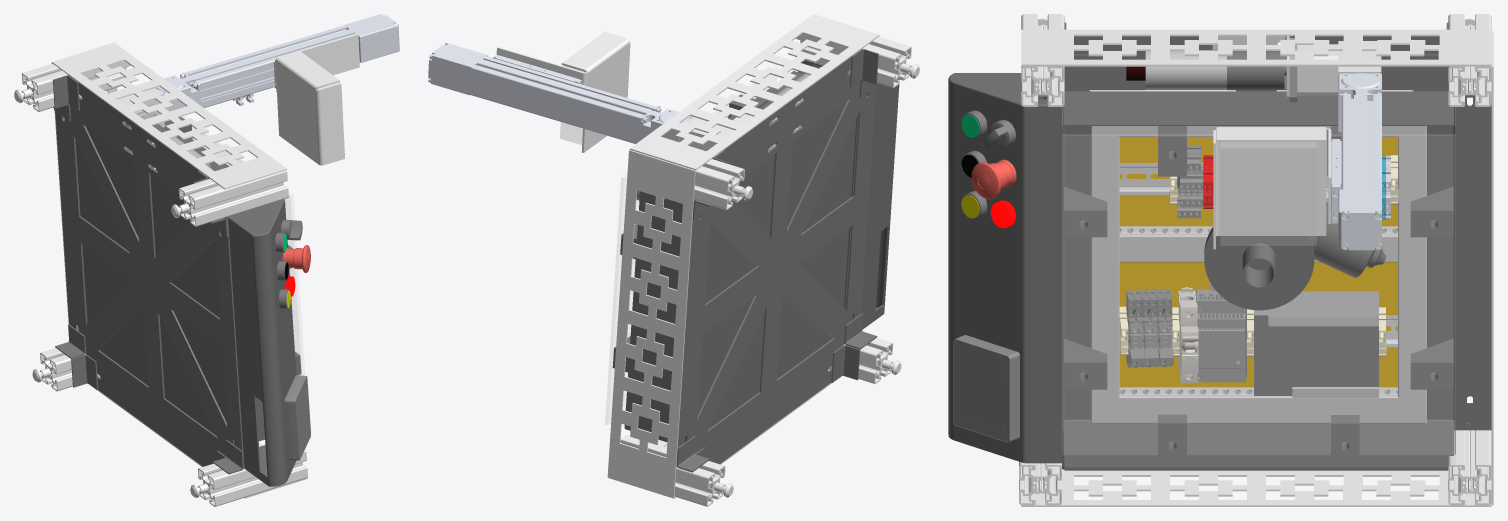
Rendered from montagem_victor_final.glb.
3 renders of one model, left to right at view 1: azimuth 30°, elevation 25°; view 2: azimuth 150°, elevation 25°; view 3: azimuth 270°, elevation 25°, orthographic. The views are drawn at different scales.
Visible parts, largest first — view 1: chapa nova atualizada-1, Chapa Dobrada Quadro Elétrico-1, suporte ihm integrador-1, Chapa 490x50x2-2, Suporte Indutor-1, AP-4004-100_1.step-1, Perfil 590x45x45-3, Perfil 590x45x45-1, IHM-1, AP-4003_1.step-1, Perfil 590x45x45-4, Acrilico-1 (+7 smaller); view 2: chapa nova atualizada-1, Chapa Dobrada Quadro Elétrico-1, Chapa 490x50x2-1, Chapa 490x50x2-2, AP-4004-100_1.step-1, suporte ihm integrador-1, Suporte Indutor-1, Perfil 590x45x45-2, AP-4003_1.step-1, Perfil 590x45x45-4, Perfil 590x45x45-3, Acrilico-1 (+6 smaller); view 3: Acrilico-1, Chapa Dobrada Quadro Elétrico-1, suporte ihm integrador-1, chapa nova atualizada-1, Chapa 490x50x2-2, Suporte Indutor-1, Chapa Laranja-1, CLP-1, Chapa 490x50x2-4, Indutor-1, Canaleta-4, Canaleta-3 (+32 smaller).
Boxes of the visible parts, left/top/right/bottom form: chapa nova atualizada-1: left=55, top=75, right=244, bottom=468; Chapa Dobrada Quadro Elétrico-1: left=75, top=121, right=264, bottom=441; suporte ihm integrador-1: left=220, top=199, right=296, bottom=486; Chapa 490x50x2-2: left=52, top=42, right=286, bottom=189; Suporte Indutor-1: left=275, top=34, right=359, bottom=165; AP-4004-100_1.step-1: left=185, top=25, right=359, bottom=107; Perfil 590x45x45-3: left=178, top=170, right=288, bottom=226; Perfil 590x45x45-1: left=198, top=449, right=307, bottom=506; IHM-1: left=284, top=375, right=310, bottom=460; AP-4003_1.step-1: left=344, top=14, right=399, bottom=62; Perfil 590x45x45-4: left=21, top=61, right=131, bottom=111; Acrilico-1: left=182, top=116, right=304, bottom=375; chapa nova atualizada-1: left=676, top=48, right=875, bottom=466; Chapa Dobrada Quadro Elétrico-1: left=624, top=71, right=856, bottom=442; Chapa 490x50x2-1: left=607, top=150, right=695, bottom=497; Chapa 490x50x2-2: left=629, top=14, right=879, bottom=170; AP-4004-100_1.step-1: left=470, top=56, right=655, bottom=143; suporte ihm integrador-1: left=798, top=60, right=899, bottom=329; Suporte Indutor-1: left=496, top=31, right=630, bottom=152; Perfil 590x45x45-2: left=620, top=435, right=725, bottom=506; AP-4003_1.step-1: left=428, top=43, right=488, bottom=95; Perfil 590x45x45-4: left=694, top=159, right=744, bottom=209; Perfil 590x45x45-3: left=795, top=33, right=911, bottom=87; Acrilico-1: left=605, top=65, right=777, bottom=424; Acrilico-1: left=1062, top=135, right=1454, bottom=466; Chapa Dobrada Quadro Elétrico-1: left=1062, top=91, right=1455, bottom=455; suporte ihm integrador-1: left=948, top=73, right=1061, bottom=463; chapa nova atualizada-1: left=1063, top=36, right=1491, bottom=470; Chapa 490x50x2-2: left=1021, top=29, right=1491, bottom=66; Suporte Indutor-1: left=1213, top=127, right=1331, bottom=249; Chapa Laranja-1: left=1119, top=137, right=1397, bottom=387; CLP-1: left=1254, top=291, right=1378, bottom=397; Chapa 490x50x2-4: left=1021, top=470, right=1491, bottom=506; Indutor-1: left=1221, top=143, right=1316, bottom=245; Canaleta-4: left=1091, top=387, right=1425, bottom=423; Canaleta-3: left=1398, top=126, right=1426, bottom=423.
Size of the model in its own units: 0.5503 by 0.5117 by 0.5679.
